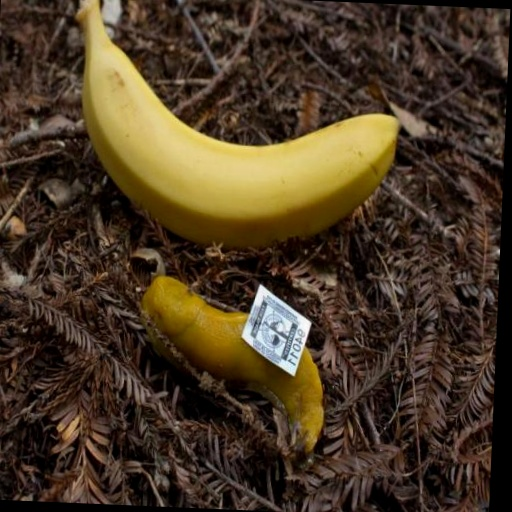fruit: (141, 277, 323, 459)
